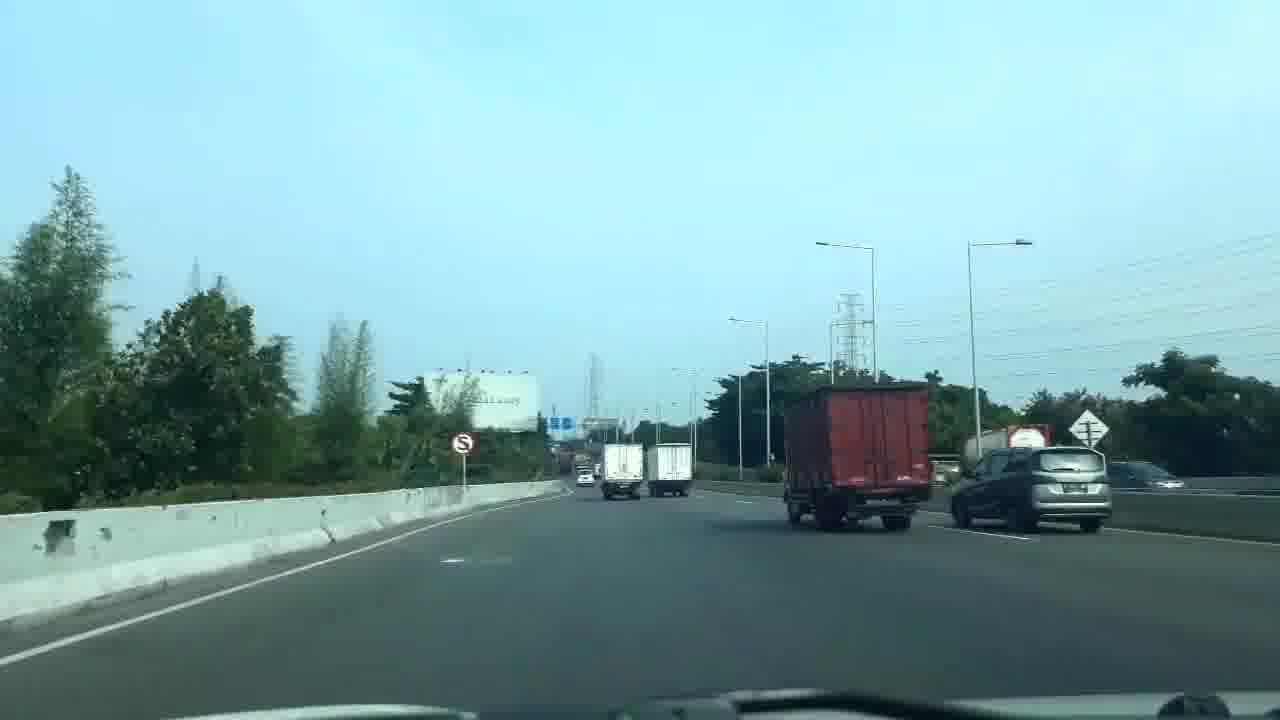plate_positive: (865, 496, 901, 507), (1063, 482, 1089, 493)
